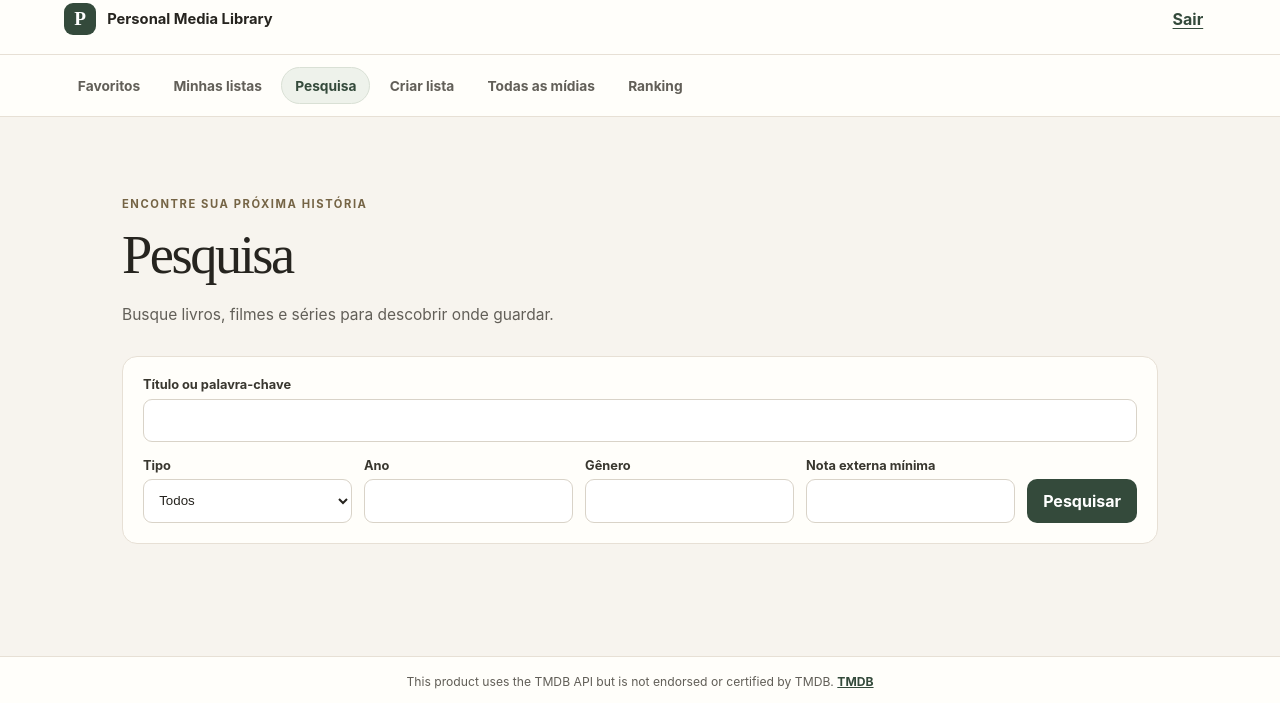
Test case: cenario7_adicionarMidiaALista › adds an unconsumed media without sending a rating
Click the button "Pesquisa": {"x": 326, "y": 86} top-left (281, 67), bottom-right (370, 104)
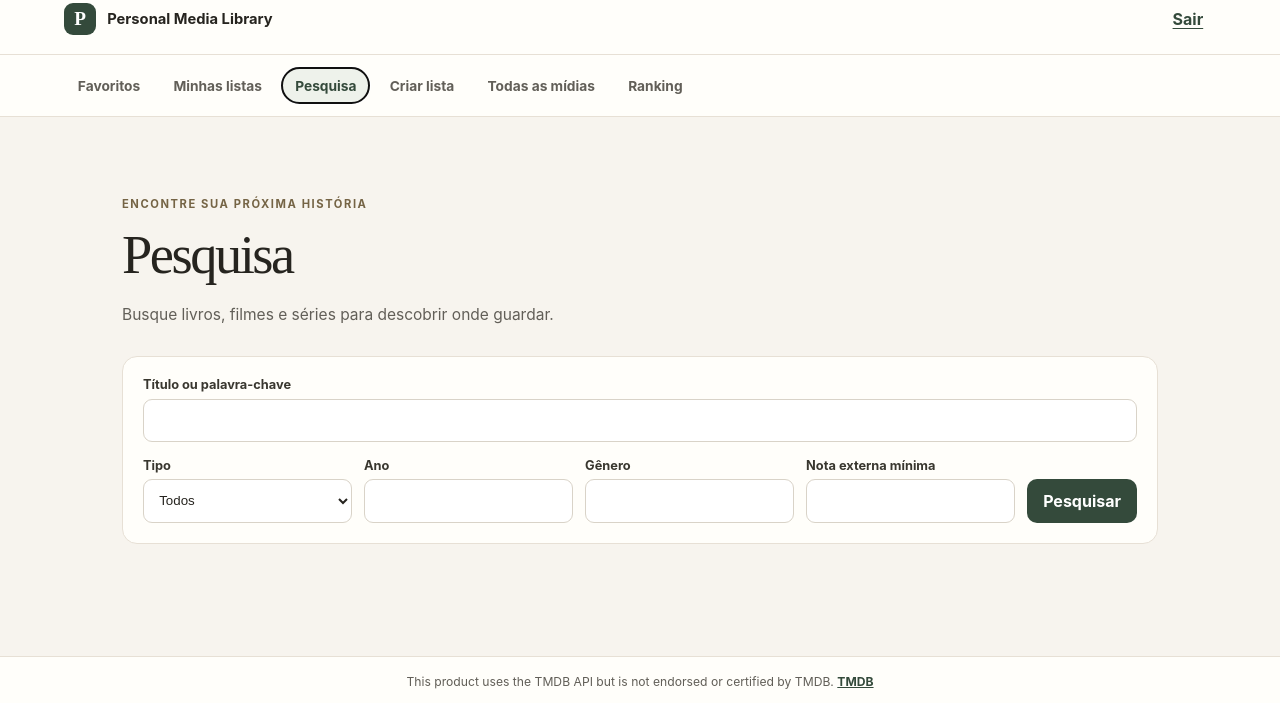
In the field labelled "Título ou palavra-chave": {"x": 640, "y": 420} top-left (143, 399), bottom-right (1137, 442), type "Filme"
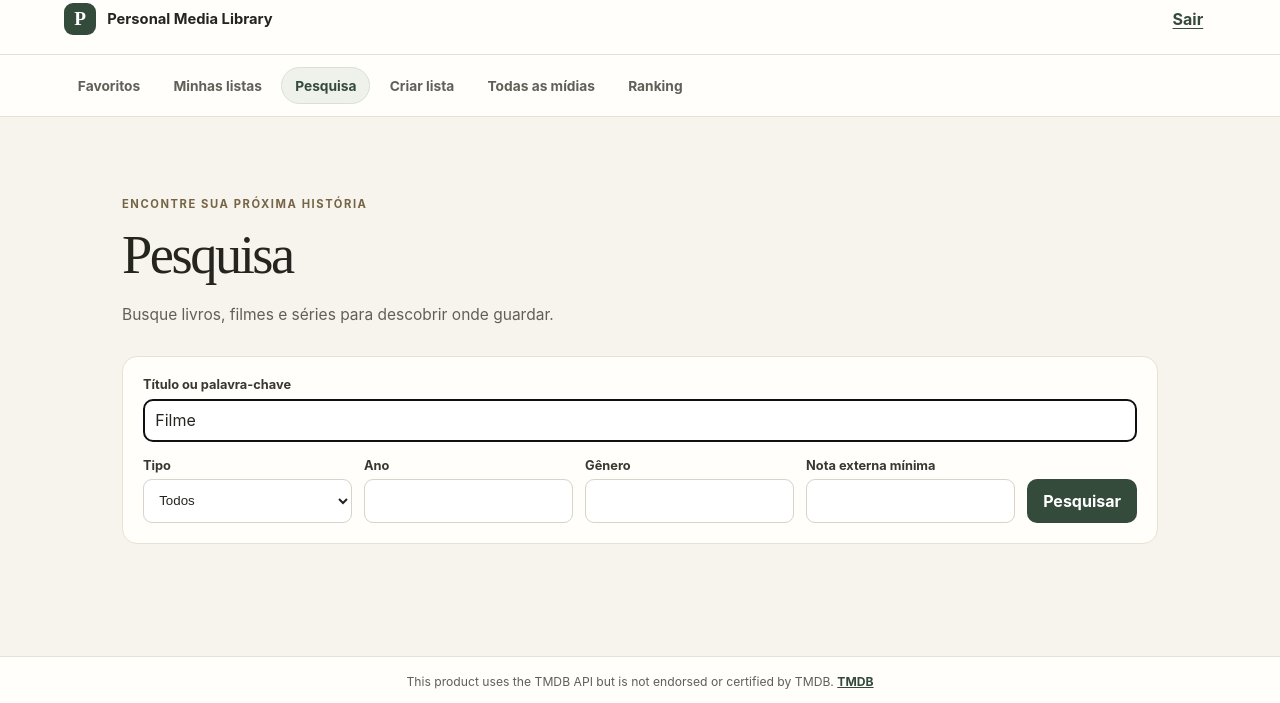
Click the button "Pesquisar": {"x": 1082, "y": 500} top-left (1027, 478), bottom-right (1137, 522)
(page scrolled)
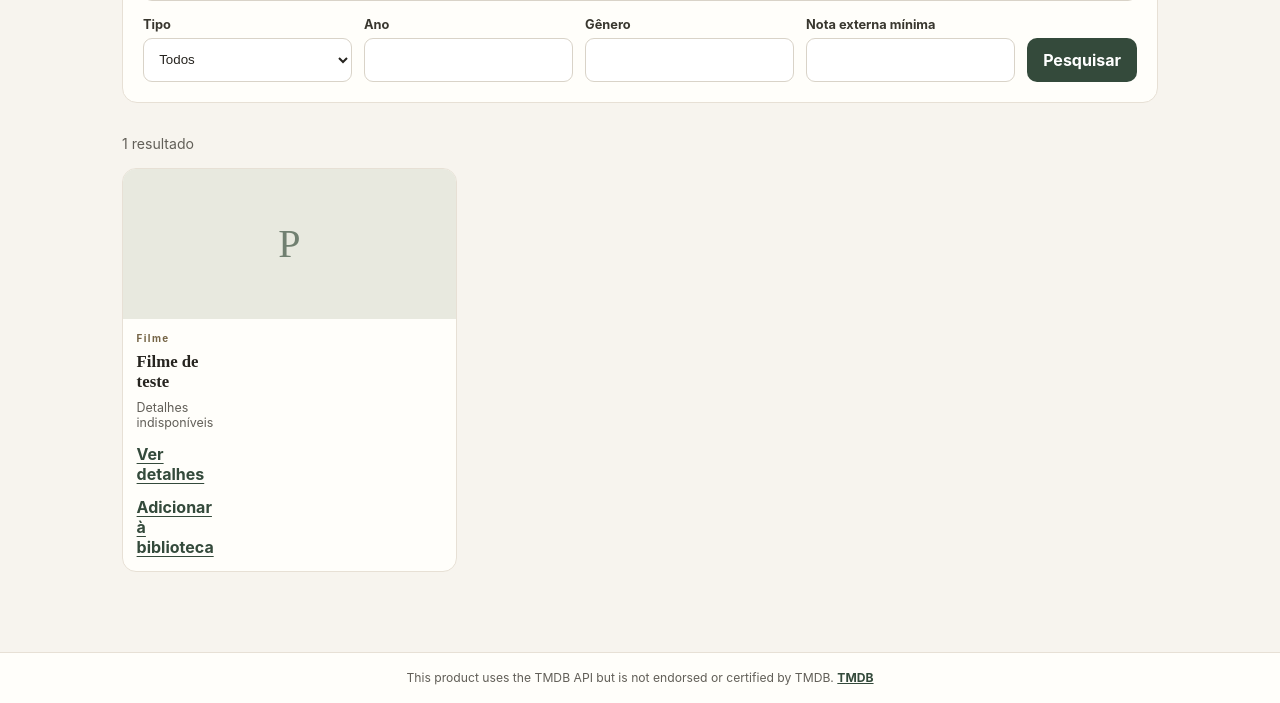
Click the button "Adicionar à biblioteca": {"x": 175, "y": 524} top-left (137, 492), bottom-right (214, 557)
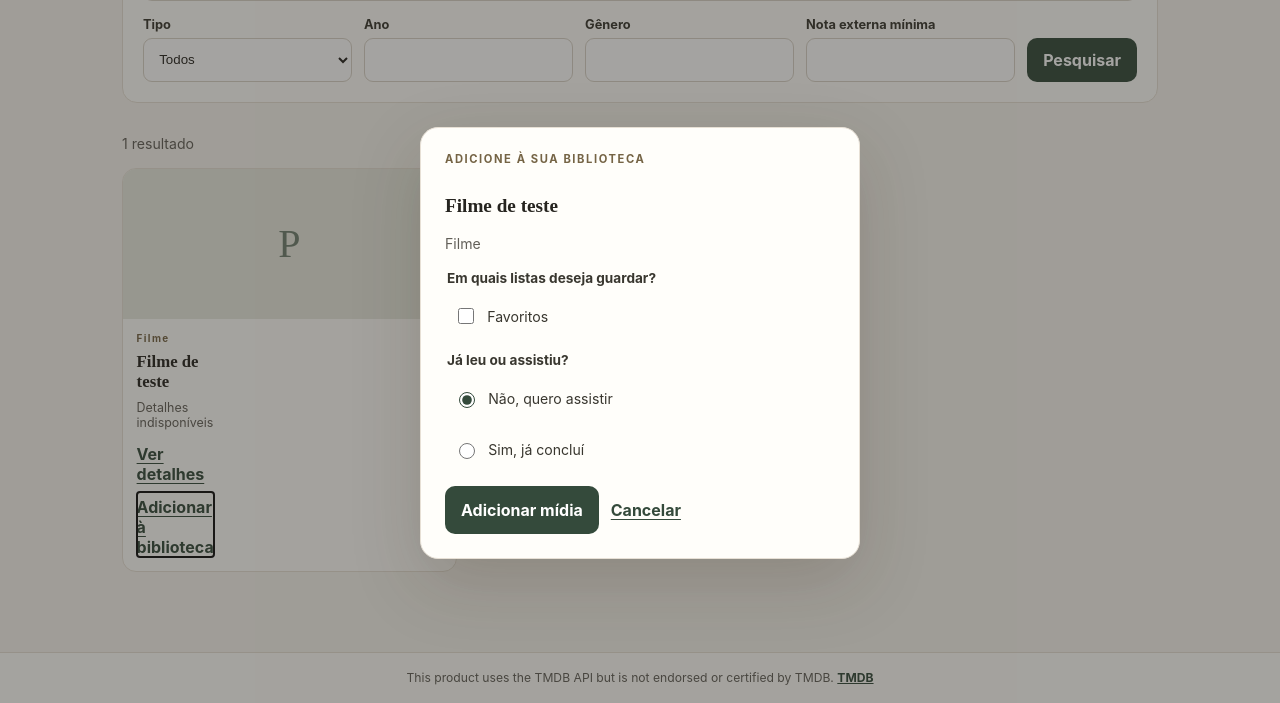
Click the checkbox labelled "Favoritos": {"x": 466, "y": 316} top-left (458, 308), bottom-right (474, 324)
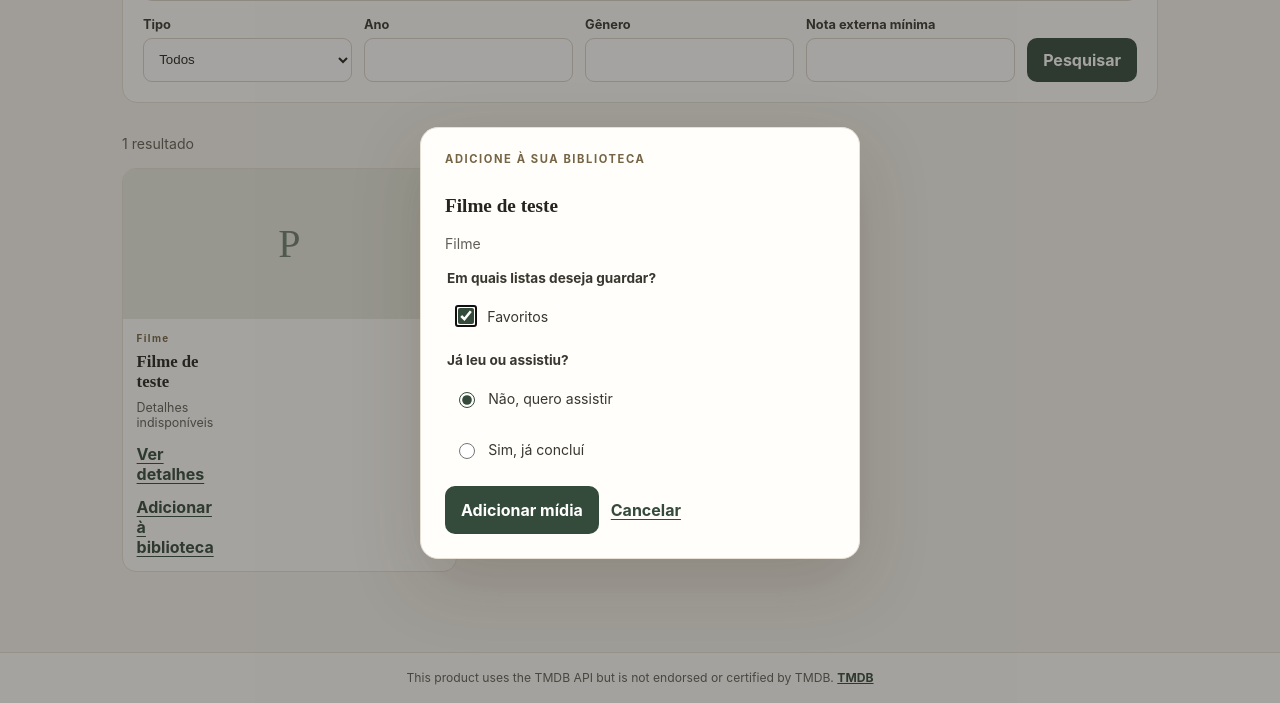
Click the button "Adicionar mídia": {"x": 522, "y": 510} top-left (445, 486), bottom-right (599, 534)
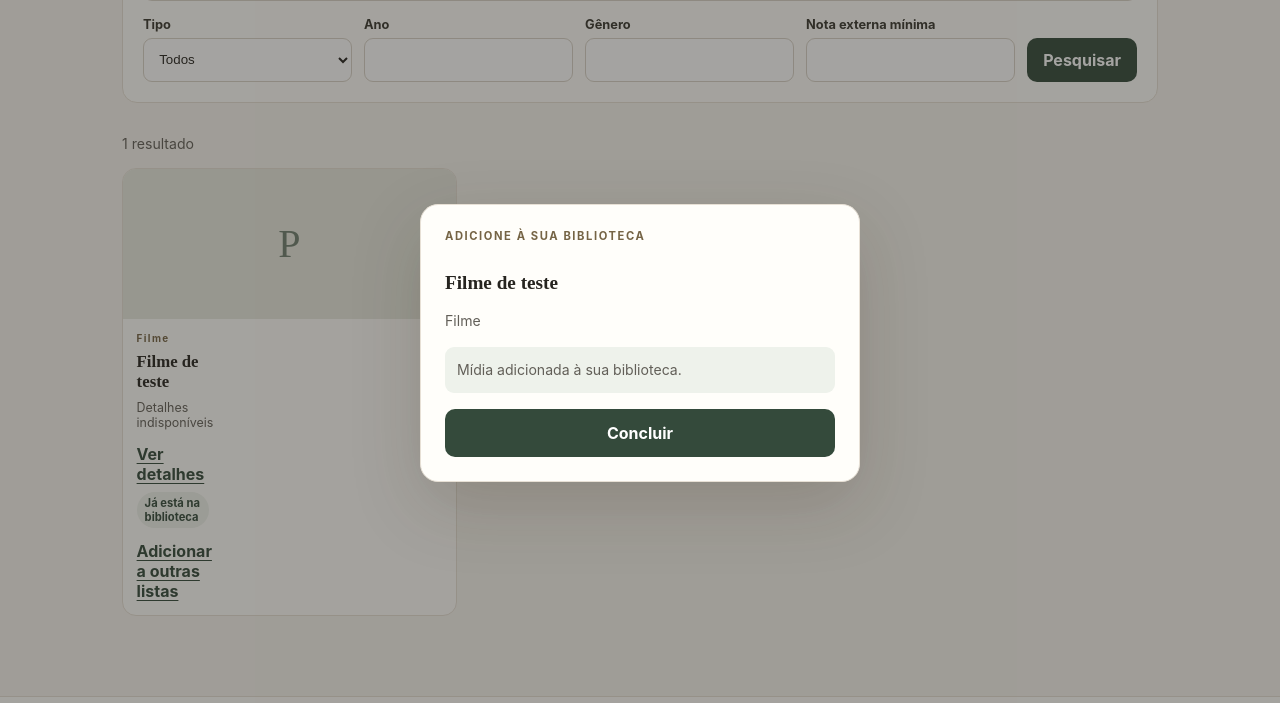
Expected: the message reads "Mídia adicionada à sua biblioteca.", top-left (457, 361), bottom-right (682, 378)
